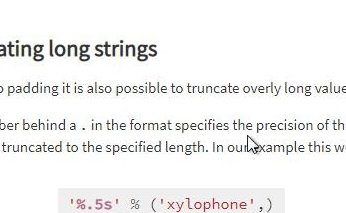cursor: (246, 134, 259, 154)
